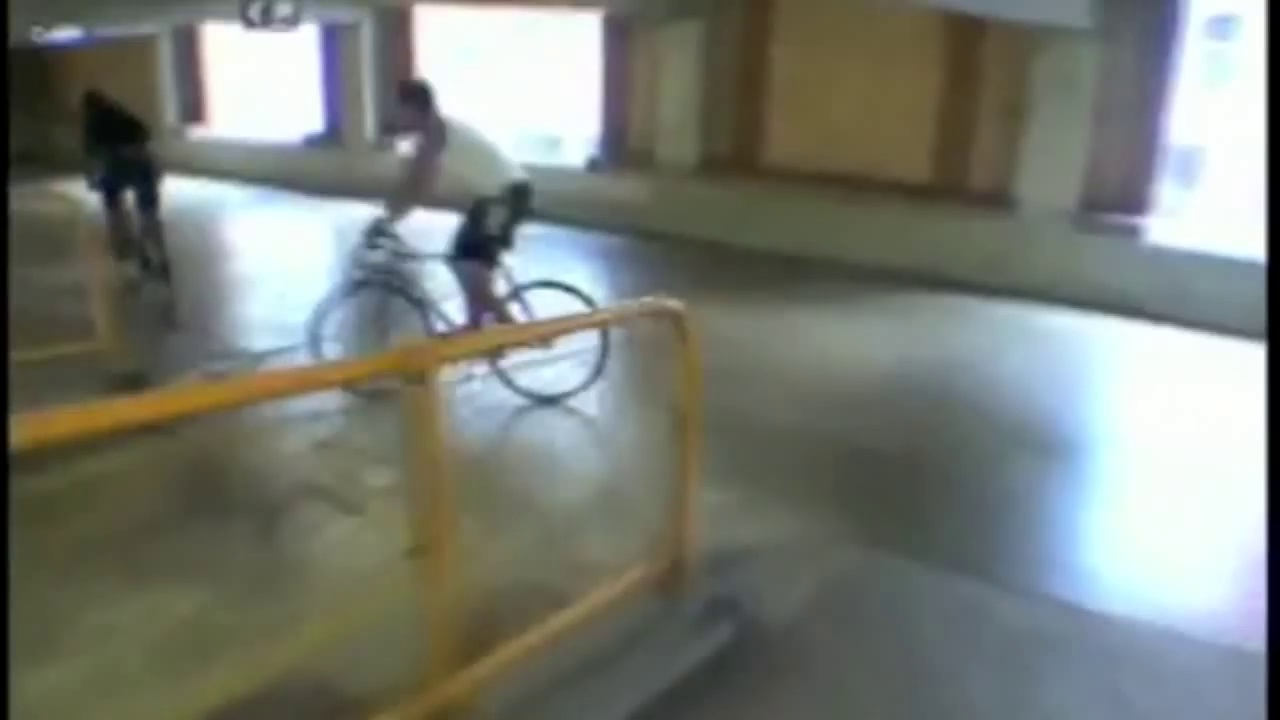cyclist_side: (304, 69, 614, 400)
